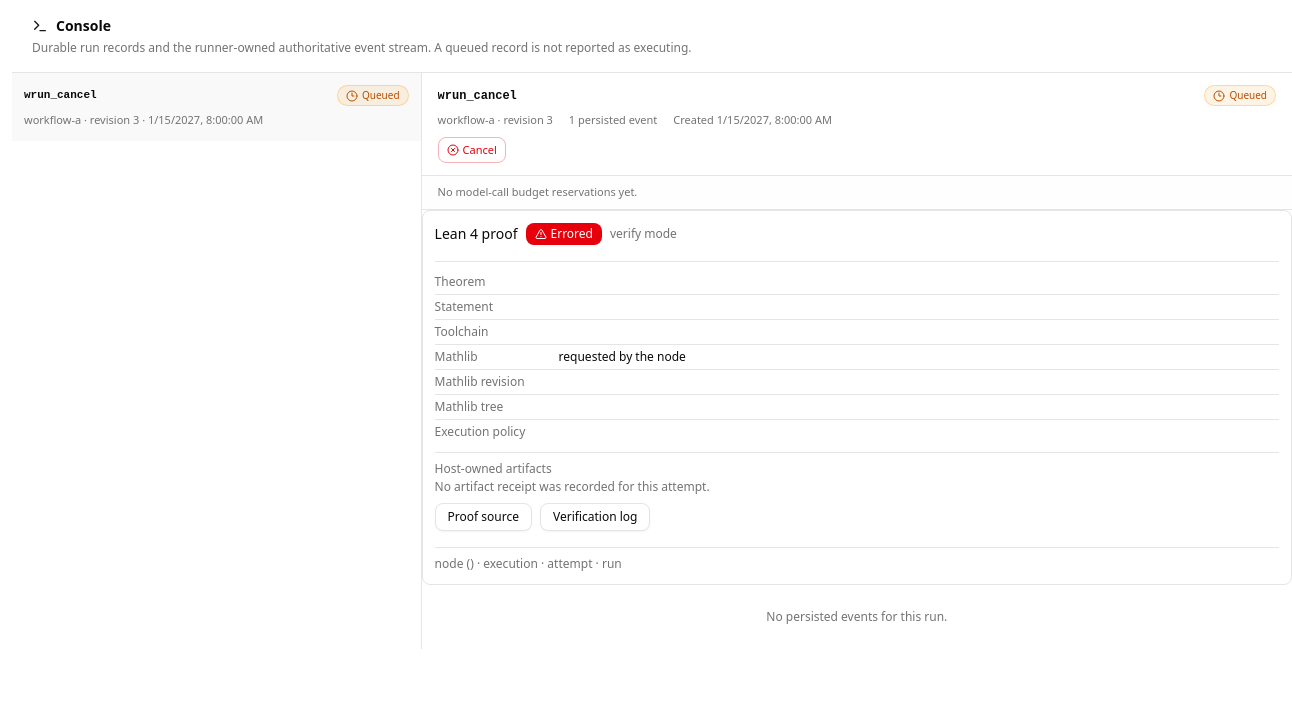
DagWorkflowConsole › cancels an active run and refreshes its authoritative record immediately
The width and height of the screenshot is (1292, 720).
What coordinates should you click on to do the following:
click the button "Cancel"
I would click on:
 (472, 150)
Its box is [438, 136, 506, 163].
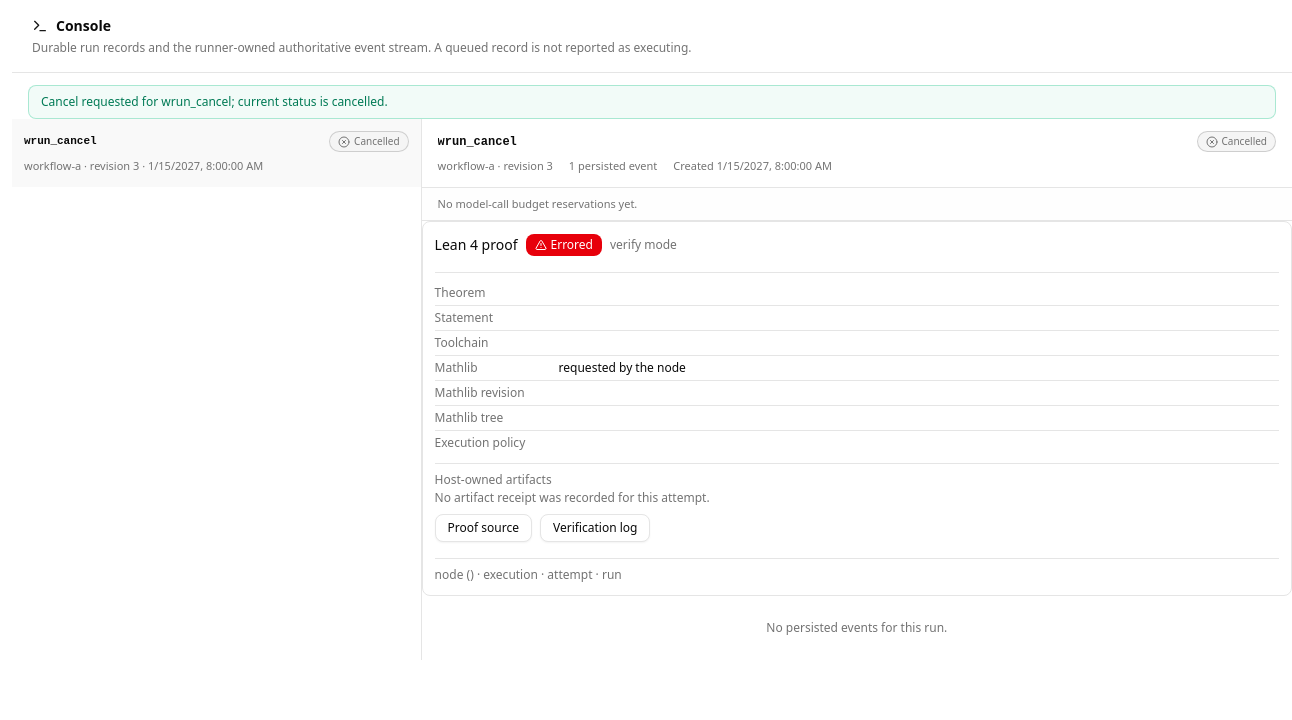
Now the message shows "Cancel requested", box [41, 93, 388, 110]
Now the 1st text "Cancelled" is shown, box [329, 131, 409, 152]
